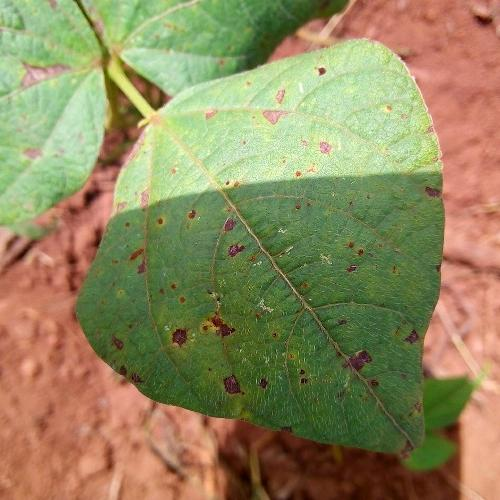hawar: (69, 48, 443, 451)
